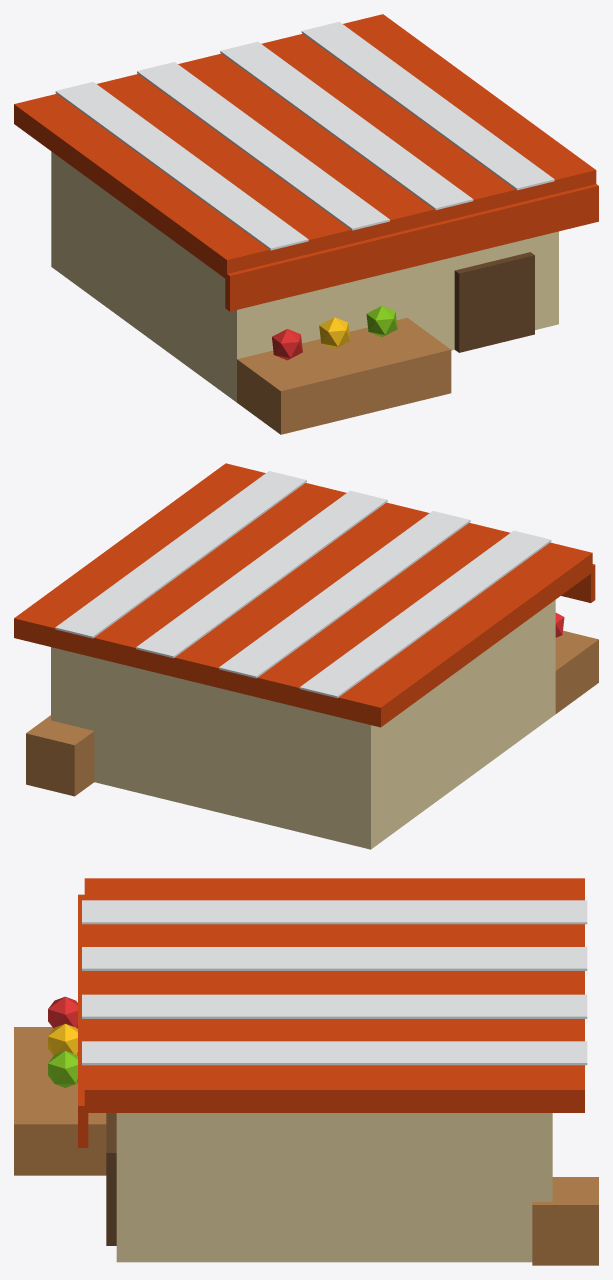
Rendered from market_0.glb.
3 renders of one model, top to bottom at view 1: azimuth 30°, elevation 25°; view 2: azimuth 150°, elevation 25°; view 3: azimuth 270°, elevation 25°, orthographic. The views are drawn at different scales.
Parts seen in each view (by area): view 1: laranja, bege_mercado, branco.003, madeira.002, porta.007, vermelho, amarelo, verde.001; view 2: bege_mercado, laranja, branco.003, madeira.002; view 3: laranja, bege_mercado, branco.003, madeira.002, porta.007, verde.001, amarelo, vermelho.
Boxes of the visible parts, x1,y1,x2,y2 form: laranja: [14, 14, 598, 311]; bege_mercado: [51, 151, 558, 402]; branco.003: [55, 21, 554, 250]; madeira.002: [237, 317, 451, 434]; porta.007: [454, 252, 534, 352]; vermelho: [272, 329, 302, 360]; amarelo: [319, 317, 350, 348]; verde.001: [366, 306, 397, 336]; bege_mercado: [51, 600, 555, 849]; laranja: [14, 463, 595, 727]; branco.003: [55, 471, 551, 698]; madeira.002: [26, 630, 598, 796]; laranja: [78, 878, 584, 1147]; bege_mercado: [116, 1113, 552, 1262]; branco.003: [82, 900, 587, 1065]; madeira.002: [14, 1027, 598, 1265]; porta.007: [106, 1113, 116, 1245]; verde.001: [48, 1051, 77, 1087]; amarelo: [48, 1023, 77, 1055]; vermelho: [48, 996, 77, 1028].
Size of the model in its own units: 1.95 by 0.81 by 2.28.
